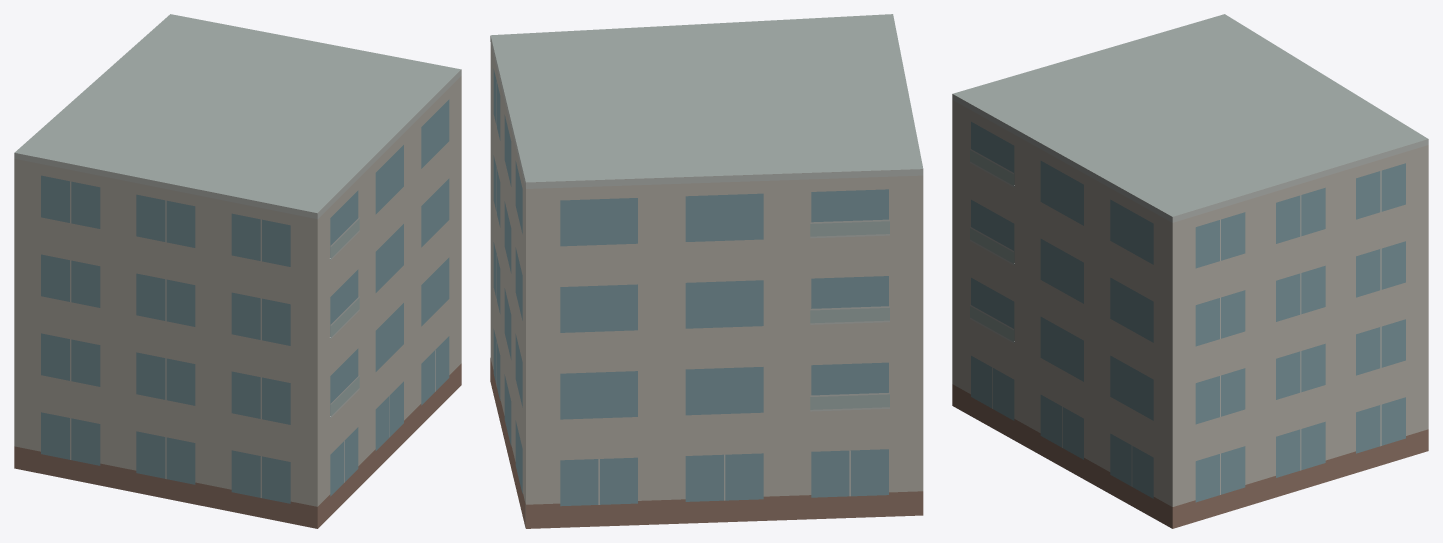
File: survey-upis-32885023.glb
The picture shows the model from 3 angles, left to right: view 1: azimuth 30°, elevation 25°; view 2: azimuth 150°, elevation 25°; view 3: azimuth 270°, elevation 25°; orthographic projection. The views are drawn at different scales.
Parts seen in each view (by area): view 1: survey-upis-32885023.tmp; view 2: survey-upis-32885023.tmp; view 3: survey-upis-32885023.tmp.
Part boxes in pixels (box(x1,y1,x2,y2)): survey-upis-32885023.tmp: box(14, 14, 461, 528); survey-upis-32885023.tmp: box(490, 14, 923, 528); survey-upis-32885023.tmp: box(952, 14, 1428, 528).
Size of the model in its own units: 17.87 by 12.8 by 17.72.
